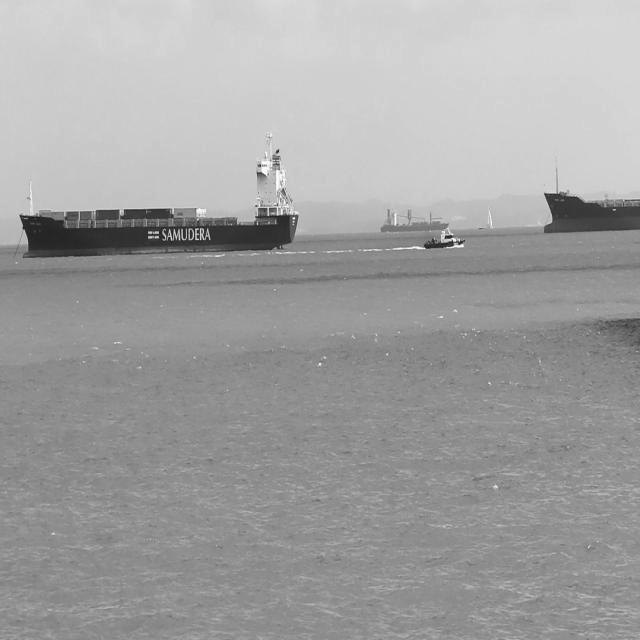ship: (18, 129, 300, 259), (543, 158, 639, 234), (380, 206, 450, 233), (423, 228, 466, 250), (486, 205, 494, 230), (478, 225, 486, 230)
